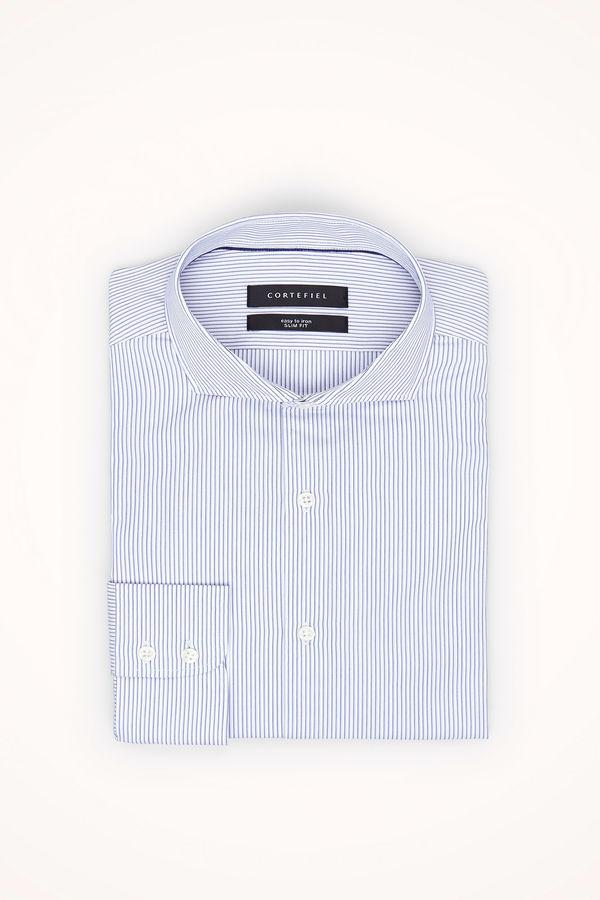teeshirt: (81, 200, 504, 755)
